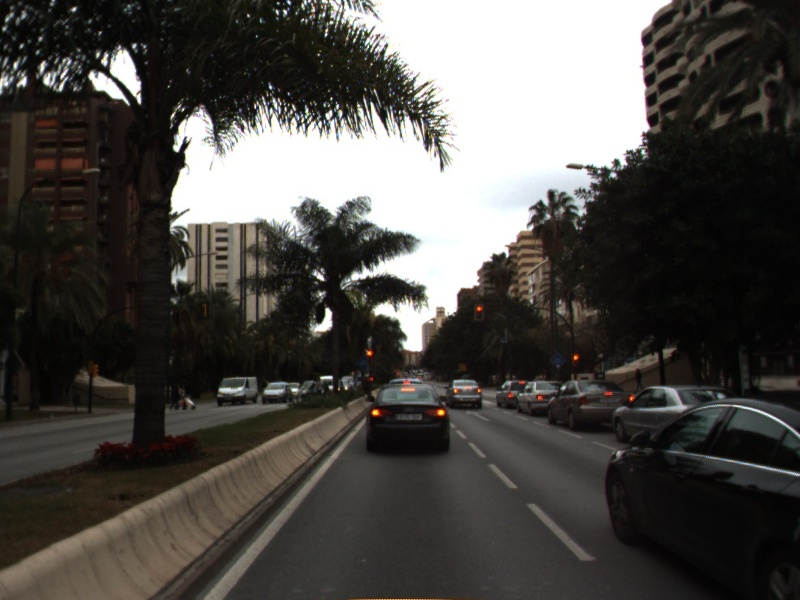STRAIGHT: (463, 407, 493, 423)
